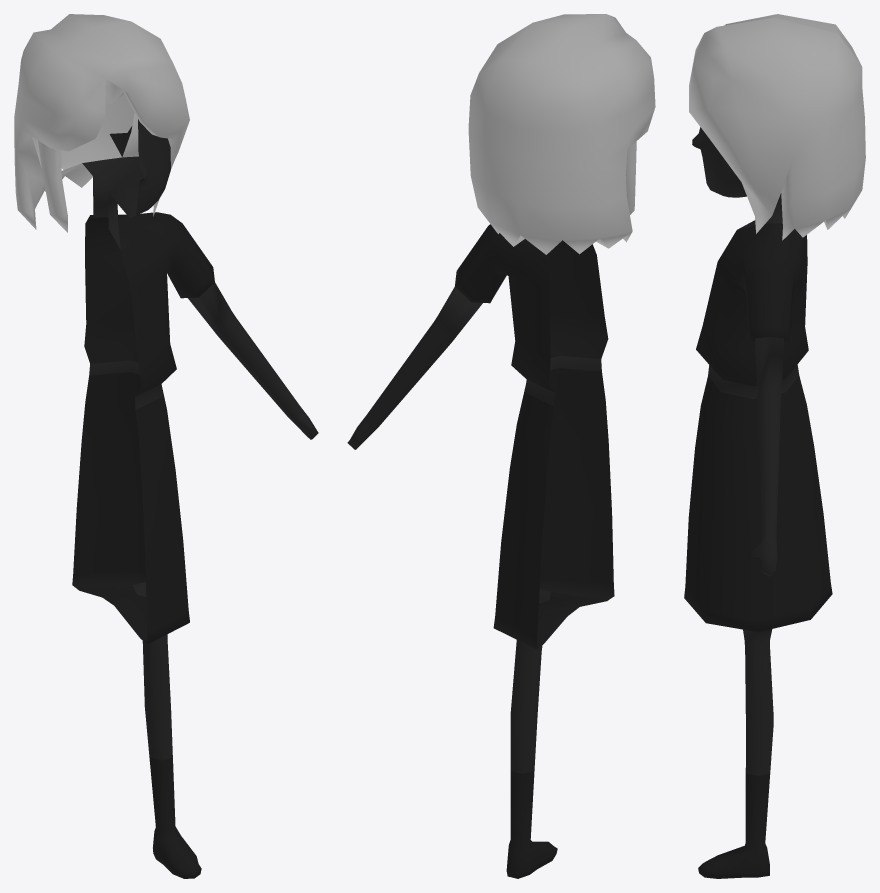
Rendered from player_base.glb.
3 views of the same model, side by side, from view 1: azimuth 30°, elevation 25°; view 2: azimuth 150°, elevation 25°; view 3: azimuth 270°, elevation 25° (orthographic). The views are drawn at different scales.
Parts seen in each view (by area): view 1: body, hair; view 2: body, hair; view 3: body, hair.
Boxes of the visible parts, x1,y1,x2,y2 form: body: (72,119,318,878); hair: (14,14,189,232); body: (347,224,614,878); hair: (468,14,655,254); body: (684,127,832,878); hair: (689,14,865,240).
Size of the model in its own units: 0.5933 by 1.66 by 0.3306.
1 material, 1 textured.
